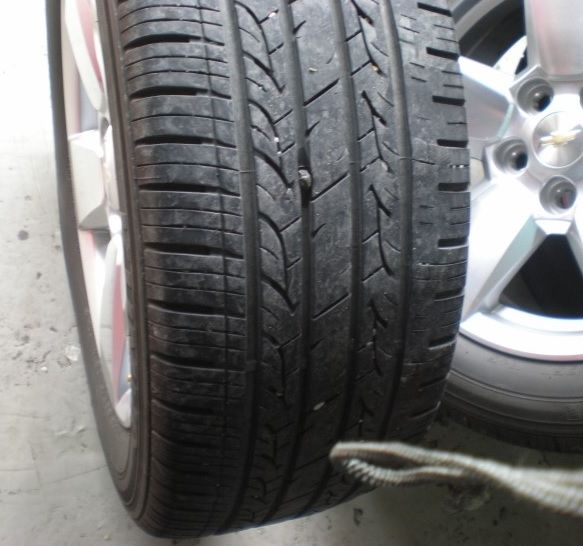middle_condition: (150, 2, 468, 540)
